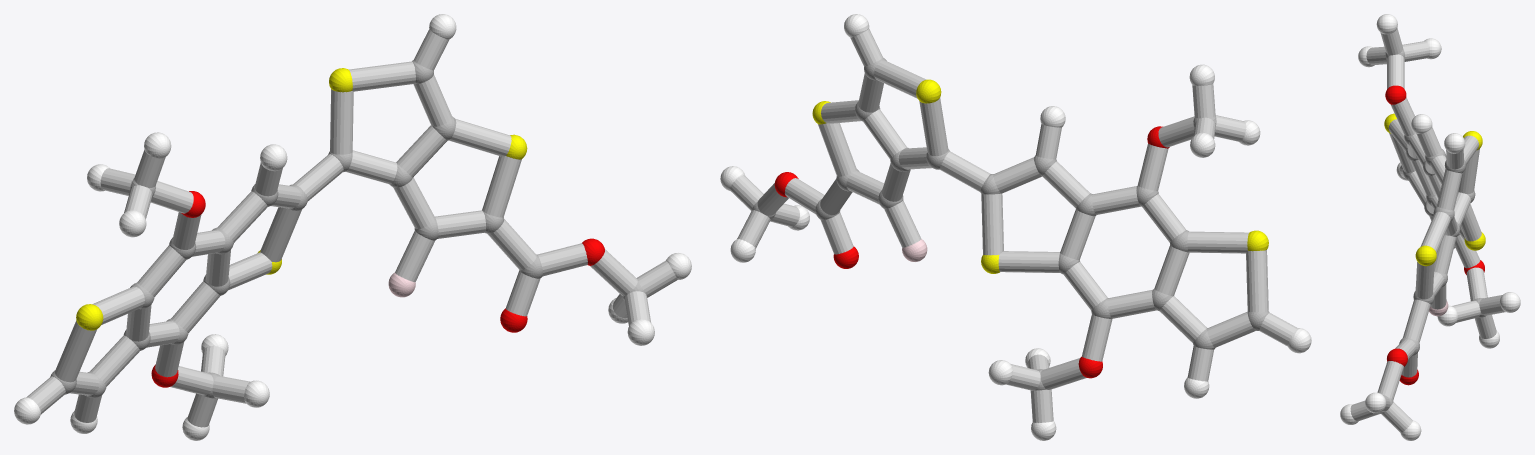
Rendered from color.glb.
3 views of the same model, side by side, from view 1: azimuth 30°, elevation 25°; view 2: azimuth 150°, elevation 25°; view 3: azimuth 270°, elevation 25° (orthographic). The views are drawn at different scales.
Visible parts, largest first — view 1: grp15205, grp8689, grp1, grp7241, grp13395; view 2: grp15205, grp8689, grp1, grp7241, grp13395; view 3: grp15205, grp8689, grp1, grp13395, grp7241.
Boxes of the visible parts, x1,y1,x2,y2 form: grp15205: [26, 29, 677, 427]; grp8689: [14, 14, 691, 440]; grp1: [50, 60, 644, 398]; grp7241: [76, 68, 527, 330]; grp13395: [151, 191, 604, 387]; grp15205: [730, 28, 1297, 422]; grp8689: [720, 14, 1311, 440]; grp1: [752, 57, 1269, 390]; grp7241: [812, 79, 1268, 273]; grp13395: [774, 126, 1169, 378]; grp15205: [1350, 28, 1505, 432]; grp8689: [1340, 14, 1520, 440]; grp1: [1379, 48, 1486, 413]; grp13395: [1385, 85, 1484, 385]; grp7241: [1384, 113, 1485, 266].
Size of the model in its own units: 16.52 by 9.33 by 5.12.
